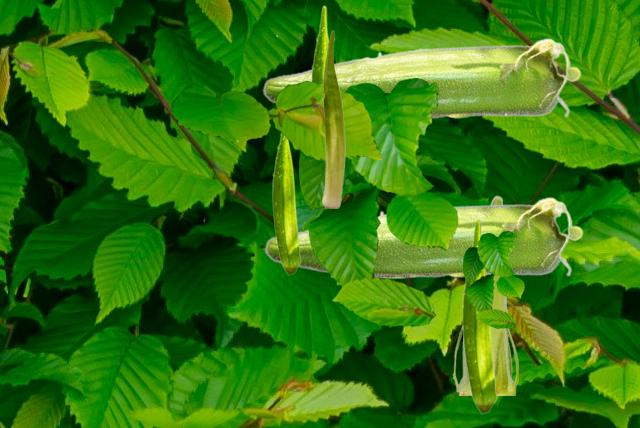okra: (262, 37, 580, 119), (264, 196, 582, 278), (452, 195, 517, 394), (462, 219, 496, 413), (272, 133, 300, 274), (322, 30, 344, 207), (311, 5, 328, 81)
